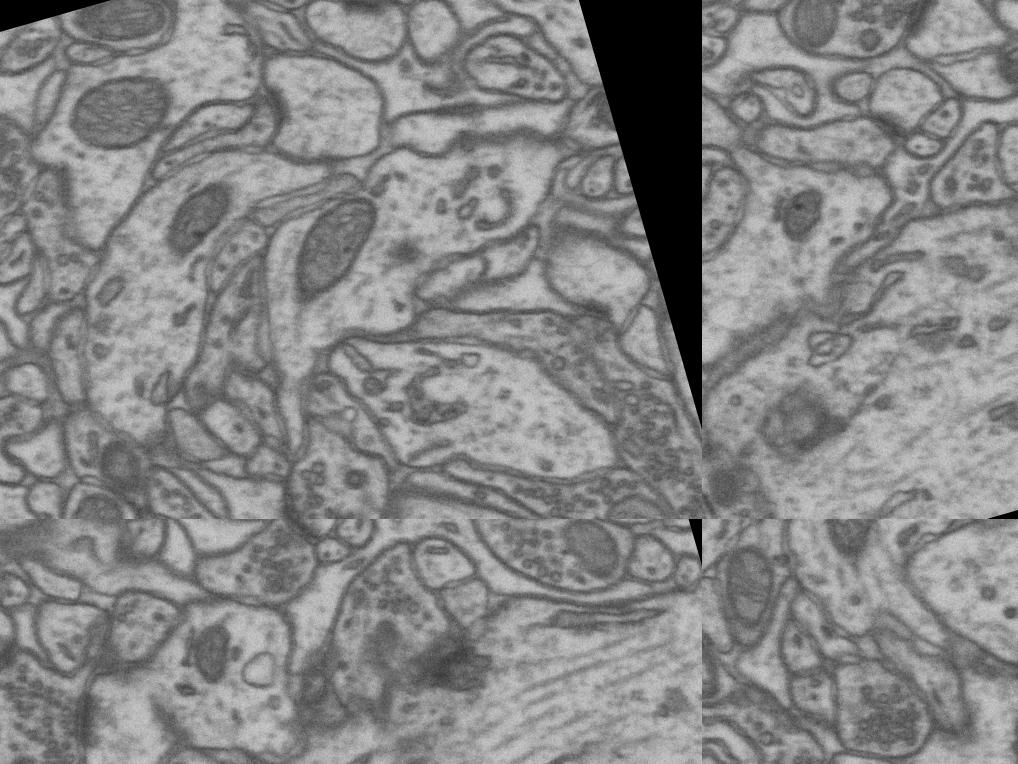mitochondria: (261, 182, 404, 318), (54, 54, 194, 170), (146, 167, 252, 264), (705, 530, 792, 639), (545, 519, 638, 596), (61, 0, 180, 60), (790, 519, 934, 568), (174, 609, 249, 694), (84, 421, 158, 506), (585, 468, 696, 519), (763, 181, 837, 255), (702, 438, 767, 519), (776, 0, 860, 56), (58, 479, 134, 519), (702, 615, 733, 711), (0, 103, 26, 199), (582, 84, 616, 137)
